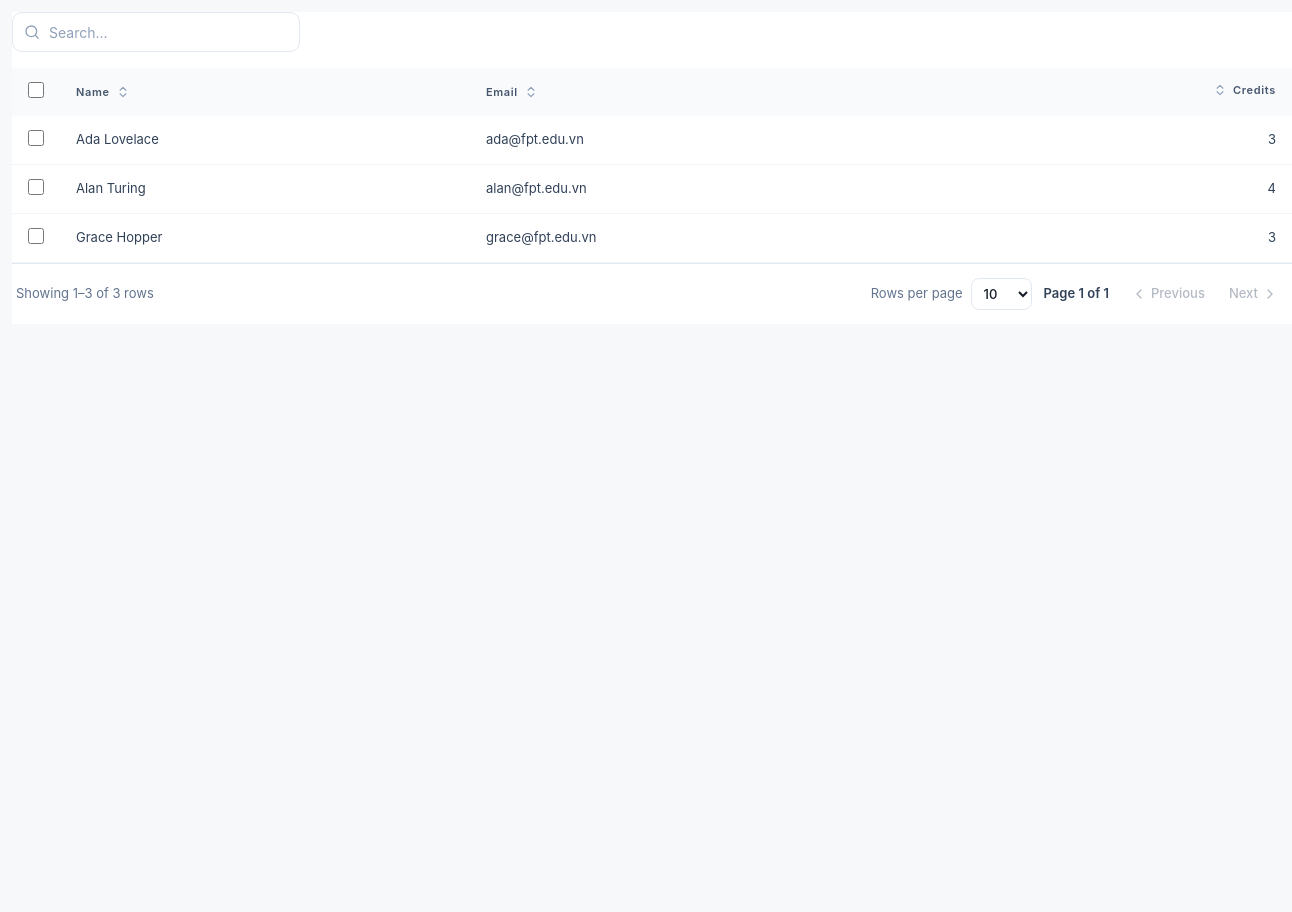
Test case: DataTable › selects rows and reveals the floating bulk-action bar
The width and height of the screenshot is (1292, 912).
Click the checkbox named "Select row 1". click: (36, 138)
box: [28,130,44,146]
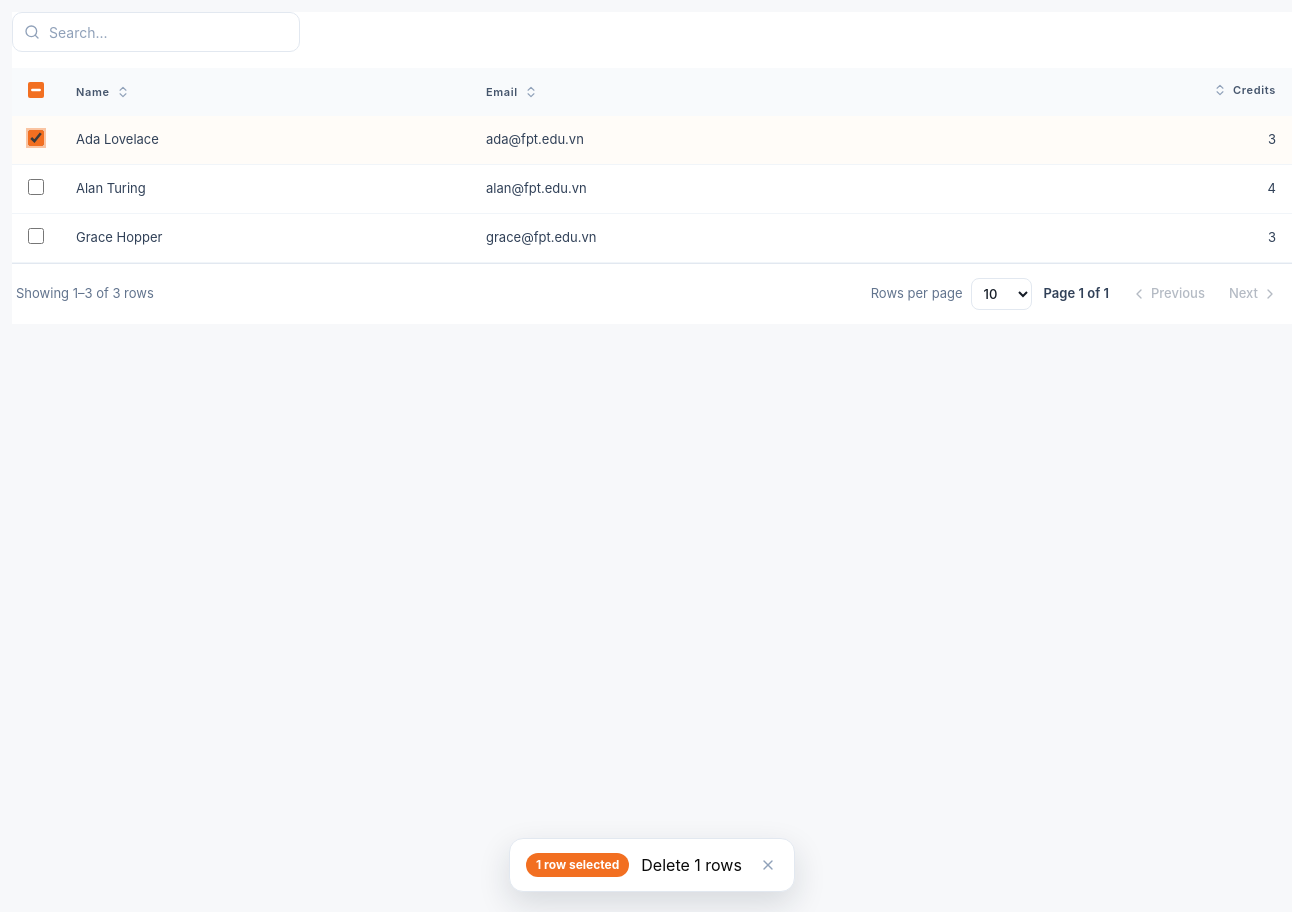
Result: the text "1 row selected" is shown at [526,853,629,877]
Result: the button "Delete 1 rows" is shown at [641,853,742,877]
